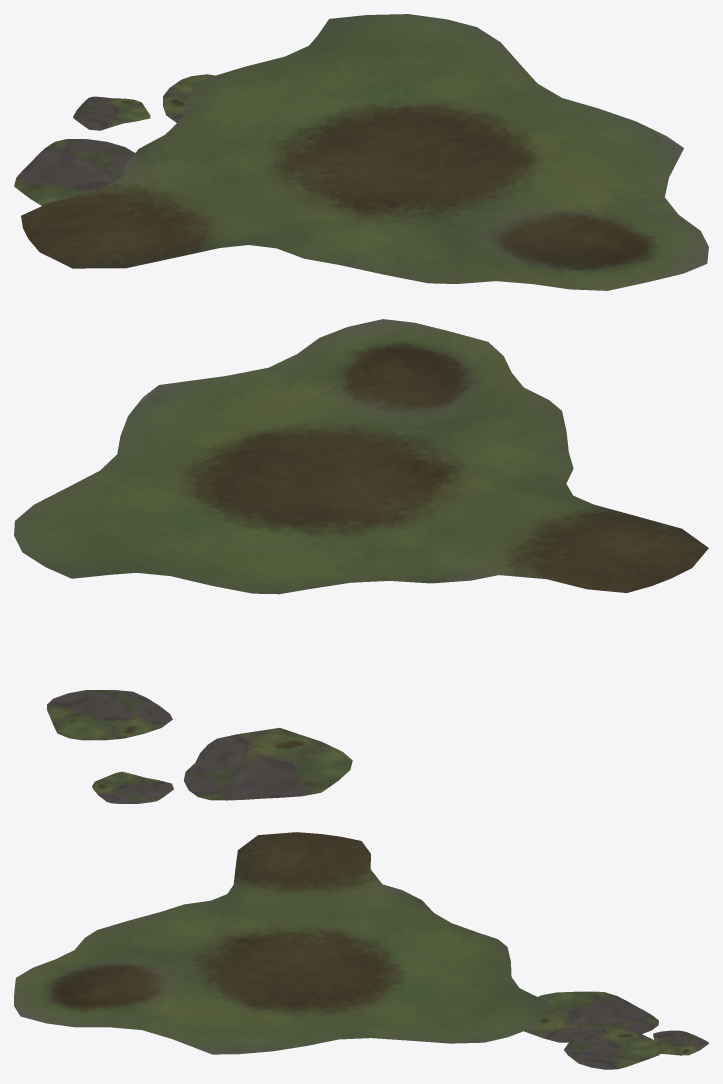
File: Grassplanes+Waterplane.fbx
3 views of the same model, one above another, from view 1: azimuth 30°, elevation 25°; view 2: azimuth 150°, elevation 25°; view 3: azimuth 270°, elevation 25° (orthographic). The views are drawn at different scales.
Parts seen in each view (by area): view 1: MainIsland_WaterPlane, Floating_Island_Big_GrassPlane, Floating_Island_Small_Grassplane, Floating_Island_Mid_Grassplane; view 2: MainIsland_WaterPlane, Floating_Island_Big_GrassPlane, Floating_Island_Mid_Grassplane, Floating_Island_Small_Grassplane; view 3: MainIsland_WaterPlane, Floating_Island_Big_GrassPlane, Floating_Island_Mid_Grassplane, Floating_Island_Small_Grassplane.
Boxes of the visible parts, x1=… form: MainIsland_WaterPlane: x1=21, y1=14, x2=708, y2=290; Floating_Island_Big_GrassPlane: x1=14, y1=139, x2=134, y2=205; Floating_Island_Small_Grassplane: x1=73, y1=96, x2=150, y2=130; Floating_Island_Mid_Grassplane: x1=163, y1=74, x2=214, y2=122; MainIsland_WaterPlane: x1=14, y1=319, x2=708, y2=594; Floating_Island_Big_GrassPlane: x1=183, y1=727, x2=352, y2=800; Floating_Island_Mid_Grassplane: x1=47, y1=690, x2=172, y2=740; Floating_Island_Small_Grassplane: x1=92, y1=771, x2=173, y2=803; MainIsland_WaterPlane: x1=14, y1=832, x2=553, y2=1054; Floating_Island_Big_GrassPlane: x1=524, y1=991, x2=658, y2=1042; Floating_Island_Mid_Grassplane: x1=564, y1=1027, x2=662, y2=1069; Floating_Island_Small_Grassplane: x1=653, y1=1030, x2=708, y2=1055.
Size of the model in its own units: 12554 by 2484 by 16577.
